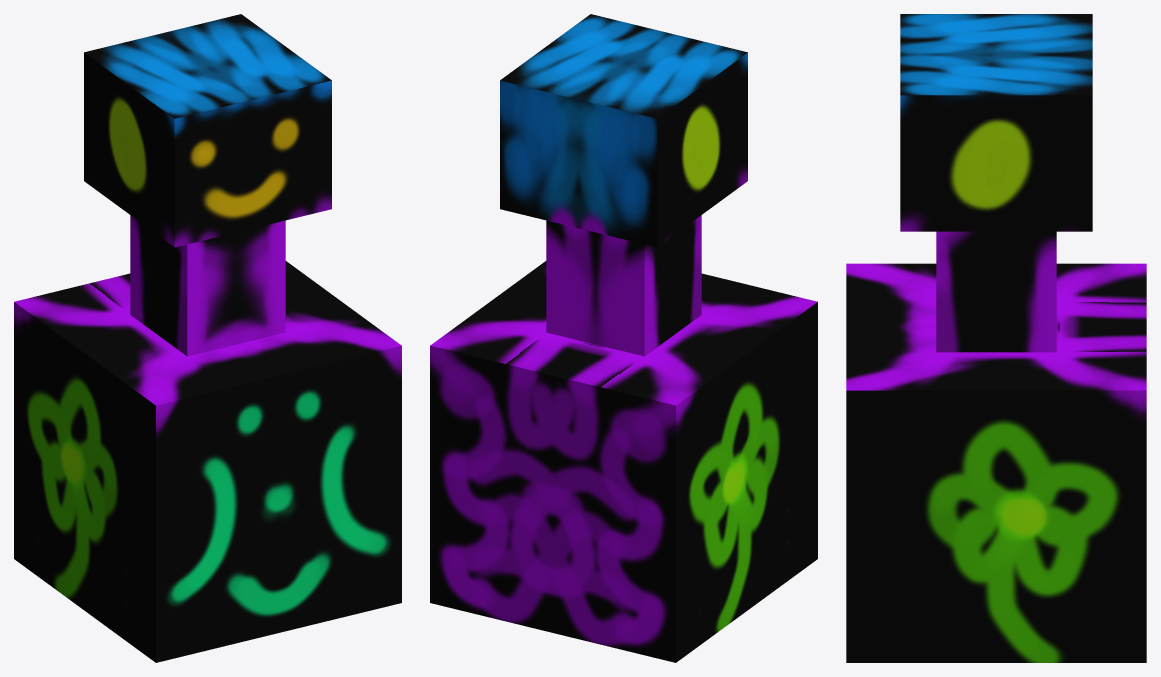
File: thething.gltf
3 renders of one model, left to right at view 1: azimuth 30°, elevation 25°; view 2: azimuth 150°, elevation 25°; view 3: azimuth 270°, elevation 25°, orthographic. The views are drawn at different scales.
Parts seen in each view (by area): view 1: thething_object; view 2: thething_object; view 3: thething_object.
Part boxes in pixels (<box>): thething_object: <box>14,14,401,662</box>; thething_object: <box>430,14,817,662</box>; thething_object: <box>846,14,1146,662</box>.
Size of the model in its own units: 1 by 2 by 1.
Materials: 1 (1 with a texture image).
